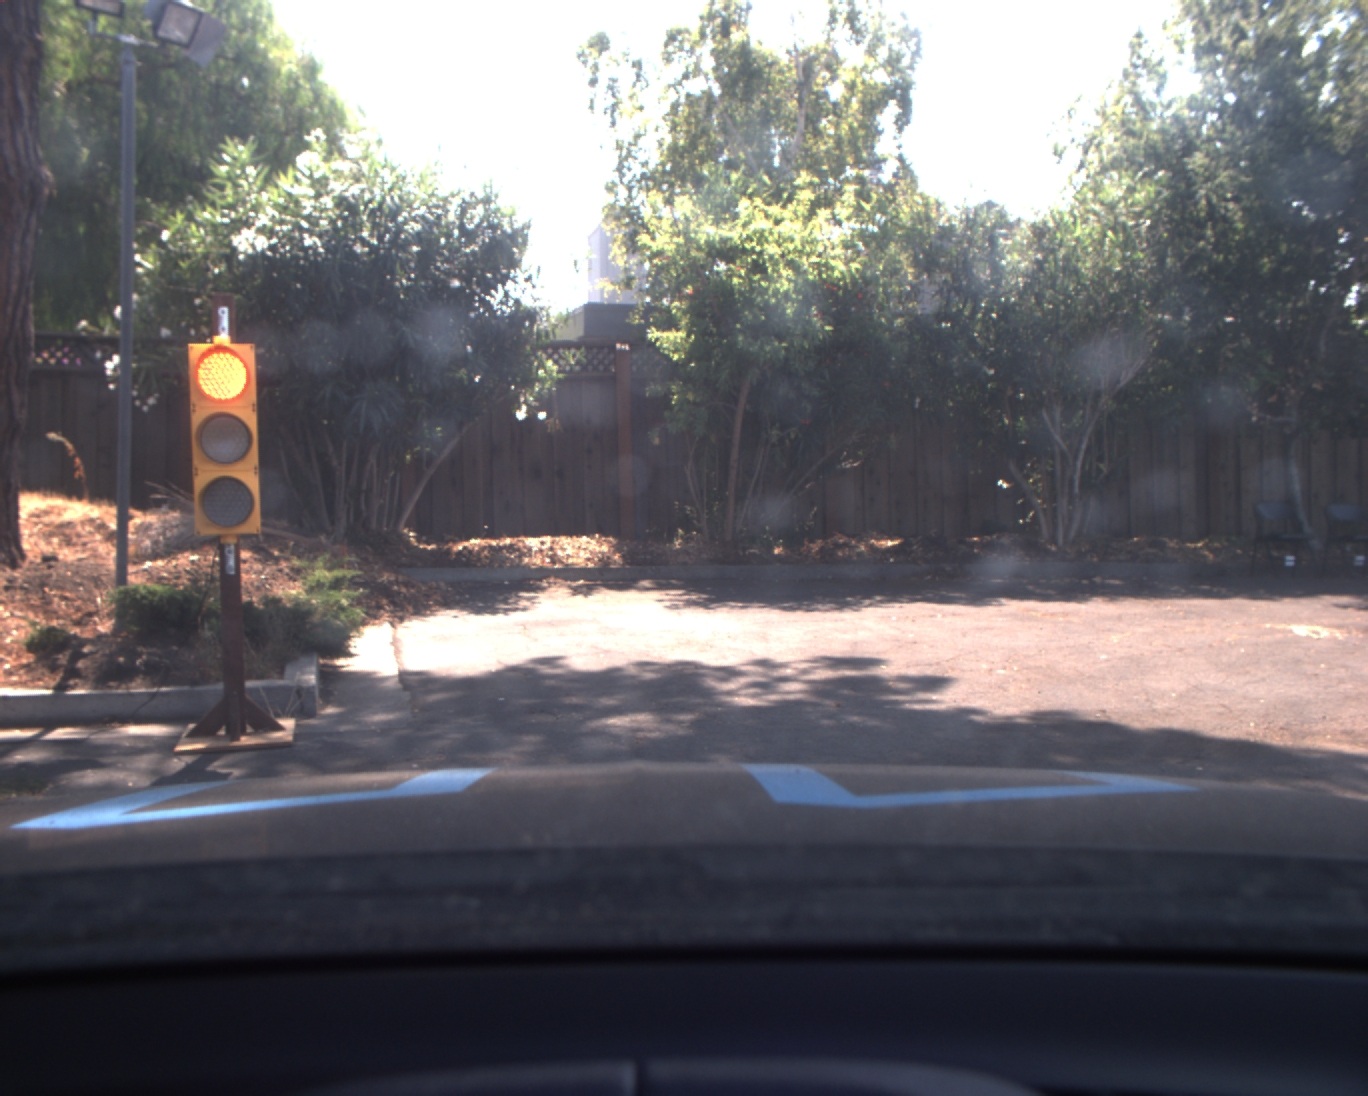red: (185, 339, 267, 539)
